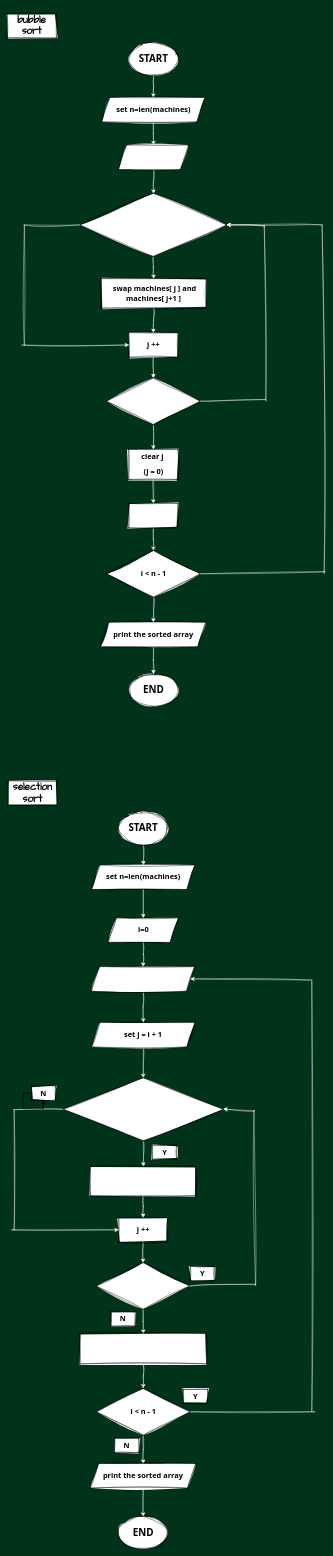
Some shapes in this 333 by 1556 pixel diagram are drawn without their labels. The shapes that lost their labels are listed below. From the top down, each one's box as (x1, y1, x2, y2) in pixels, then its label:
(118, 145, 189, 170): i=0,j=0
(79, 193, 227, 256): machines[ j ]>machines [ j+1 ]
(106, 377, 200, 425): j < n - i - 1
(128, 503, 178, 528): i ++
(91, 966, 195, 991): min_idx = i
(63, 1077, 224, 1141): machines[ j ]>machines [ min_idx ]
(90, 1166, 196, 1196): min_idx = j
(96, 1262, 190, 1309): j < n
(80, 1333, 207, 1364): swap machines[ i ] and machines[ min_idx ]
